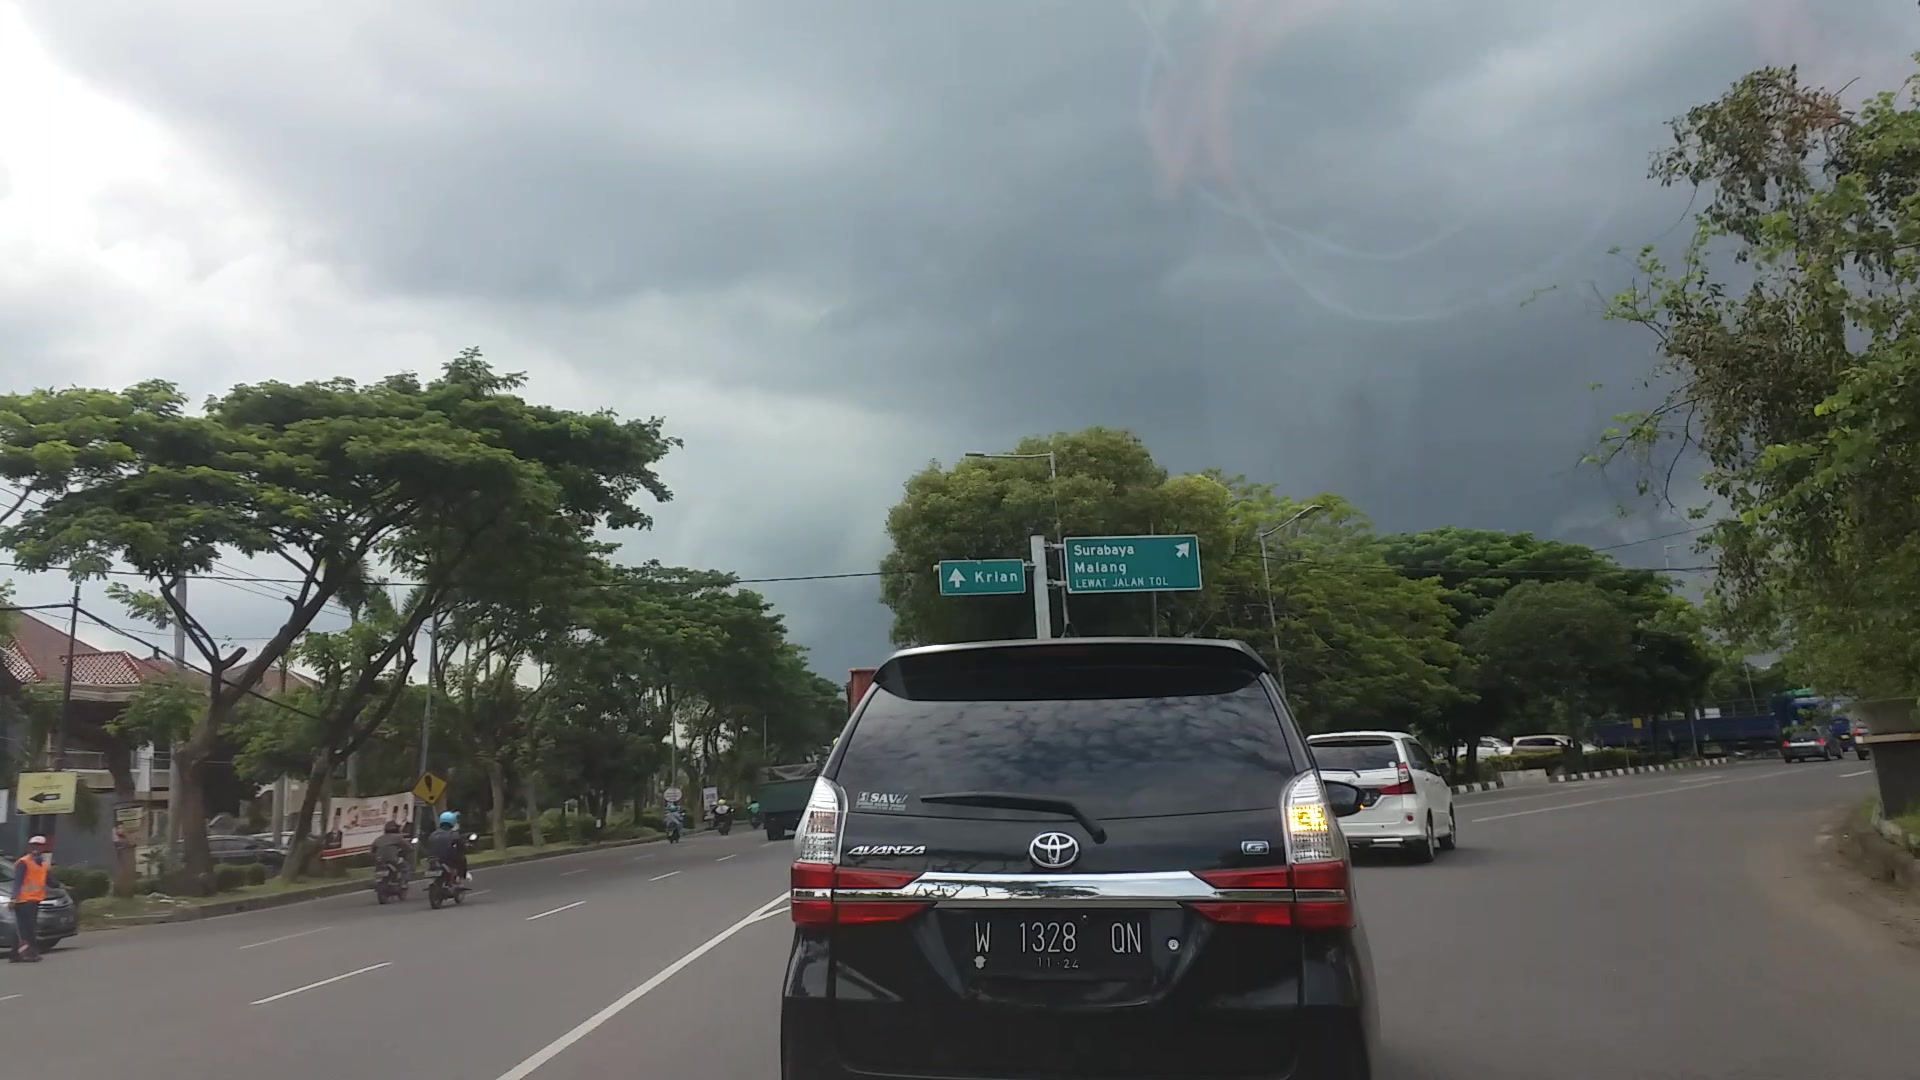plate_positive: (969, 909, 1149, 973)
